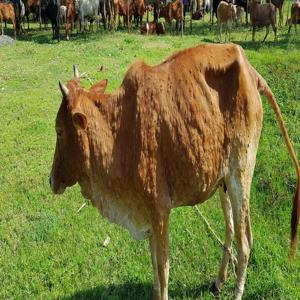lumpy skin diesease: (48, 42, 299, 299), (248, 0, 277, 43), (39, 0, 61, 41), (158, 0, 184, 34), (216, 0, 237, 42), (75, 0, 101, 33), (59, 0, 78, 40), (233, 0, 261, 27), (22, 0, 47, 30), (112, 0, 136, 30), (0, 0, 17, 38), (264, 0, 286, 26), (286, 0, 299, 35), (139, 20, 165, 35)
